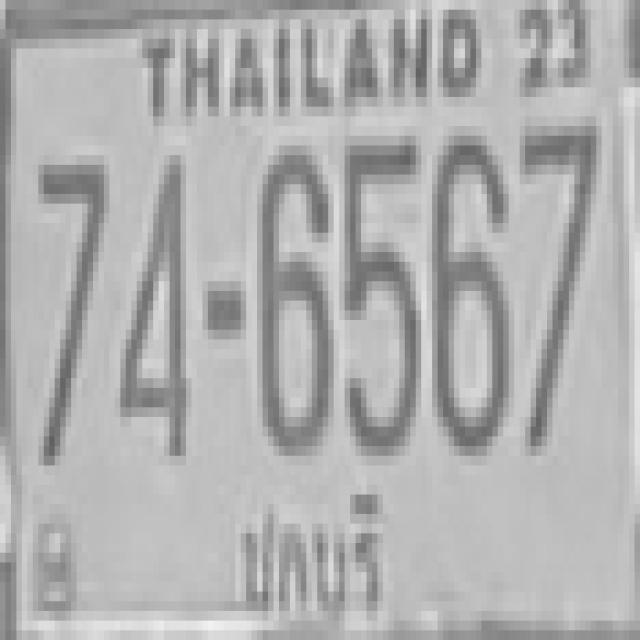4: (115, 150, 186, 451)
5: (339, 131, 416, 451)
6: (429, 126, 506, 446), (257, 141, 328, 451)
7: (517, 116, 593, 446), (36, 155, 106, 456)
Chonburi: (217, 481, 406, 633)
